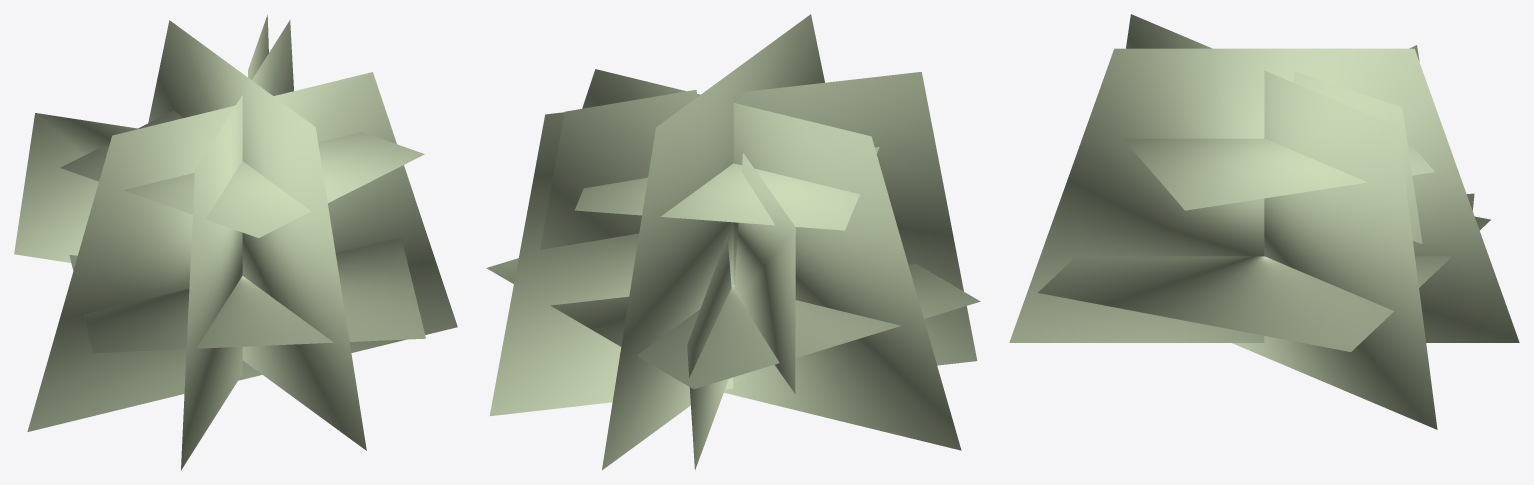
File: park-canopy-zero-unit-authored-atlas.glb
The picture shows the model from 3 angles, left to right: view 1: azimuth 30°, elevation 25°; view 2: azimuth 150°, elevation 25°; view 3: azimuth 270°, elevation 25°; orthographic projection. The views are drawn at different scales.
Visible parts, largest first — view 1: Authored surface; view 2: Authored surface; view 3: Authored surface.
Boxes of the visible parts, bbox=[...] form: Authored surface: bbox=[14, 15, 457, 470]; Authored surface: bbox=[486, 14, 980, 470]; Authored surface: bbox=[1009, 14, 1519, 429].
Size of the model in its own units: 5.83 by 3.96 by 5.83.
1 material, 1 textured.
